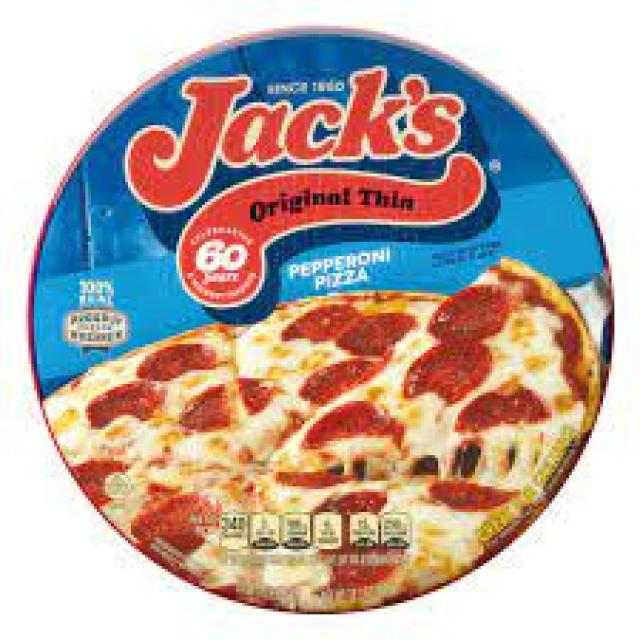Pizza: (71, 59, 636, 616)
